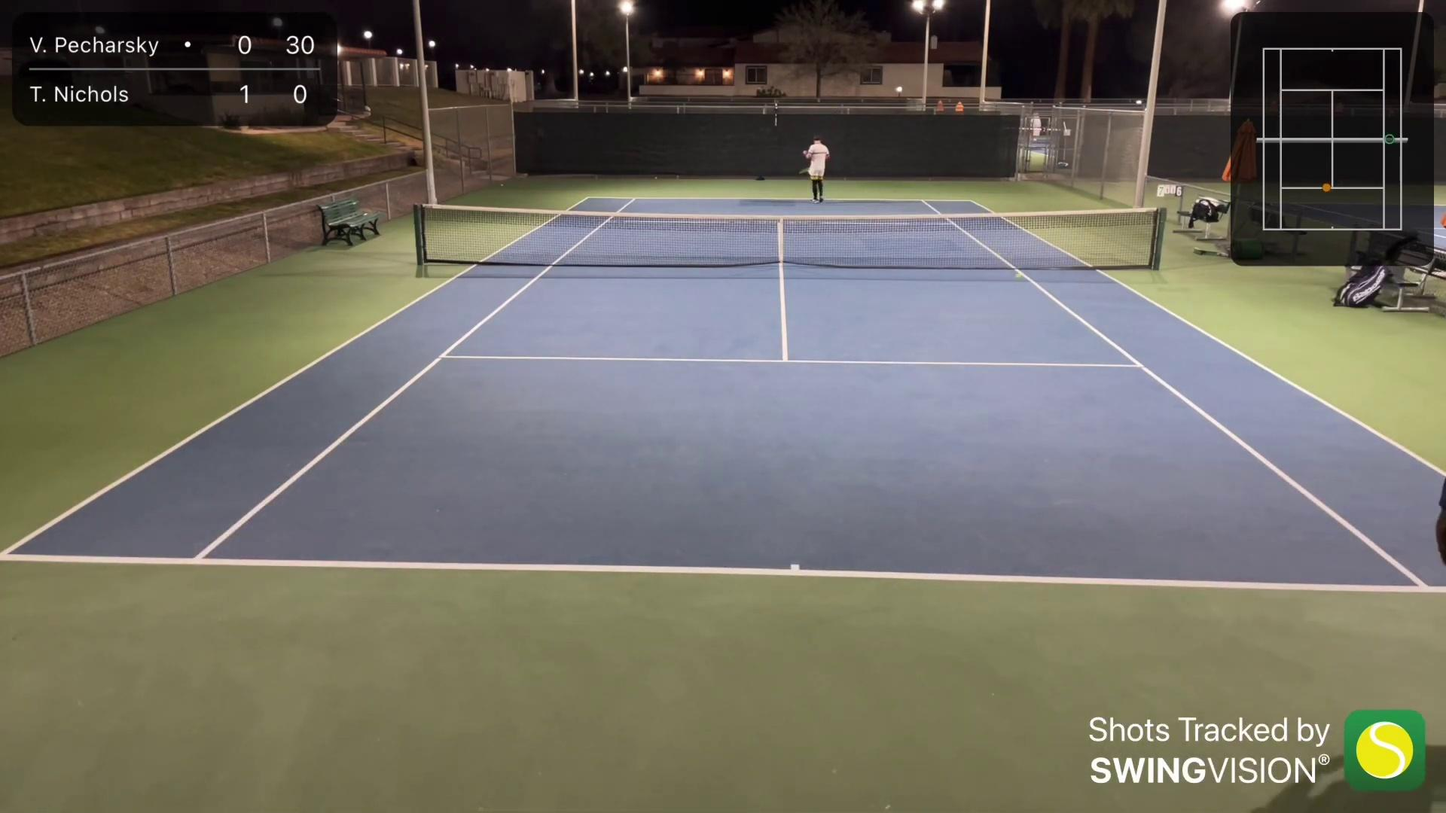ball: (1014, 270, 1023, 282)
